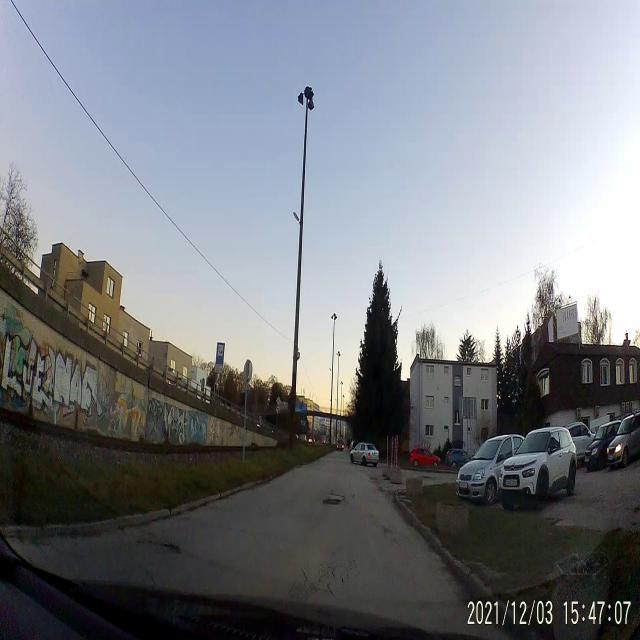Pothole: (156, 536, 184, 558), (319, 490, 346, 510)
